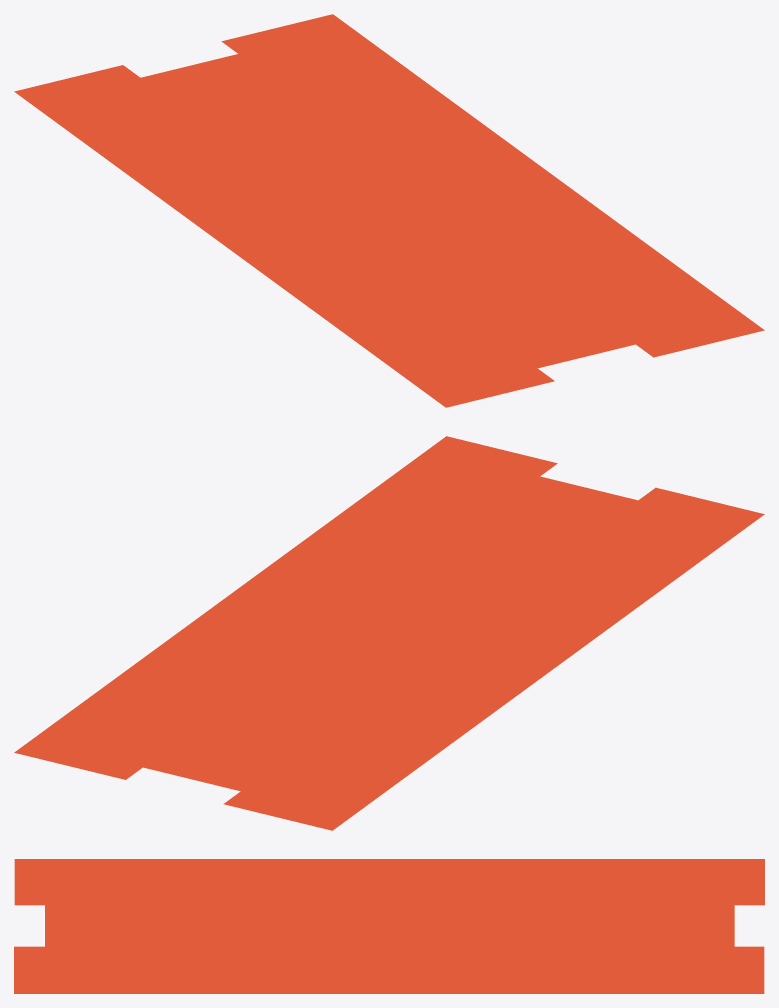
The model's file is Open Dag Map Building Right.fbx.
3 views of the same model, one above another, from view 1: azimuth 30°, elevation 25°; view 2: azimuth 150°, elevation 25°; view 3: azimuth 270°, elevation 25° (orthographic). The views are drawn at different scales.
Parts seen in each view (by area): view 1: Building Right; view 2: Building Right; view 3: Building Right.
Boxes of the visible parts, left/top/right/bottom form: Building Right: left=14, top=14, right=764, bottom=407; Building Right: left=14, top=436, right=764, bottom=830; Building Right: left=14, top=859, right=764, bottom=993.
Size of the model in its own units: 137 by 0.247 by 321.
